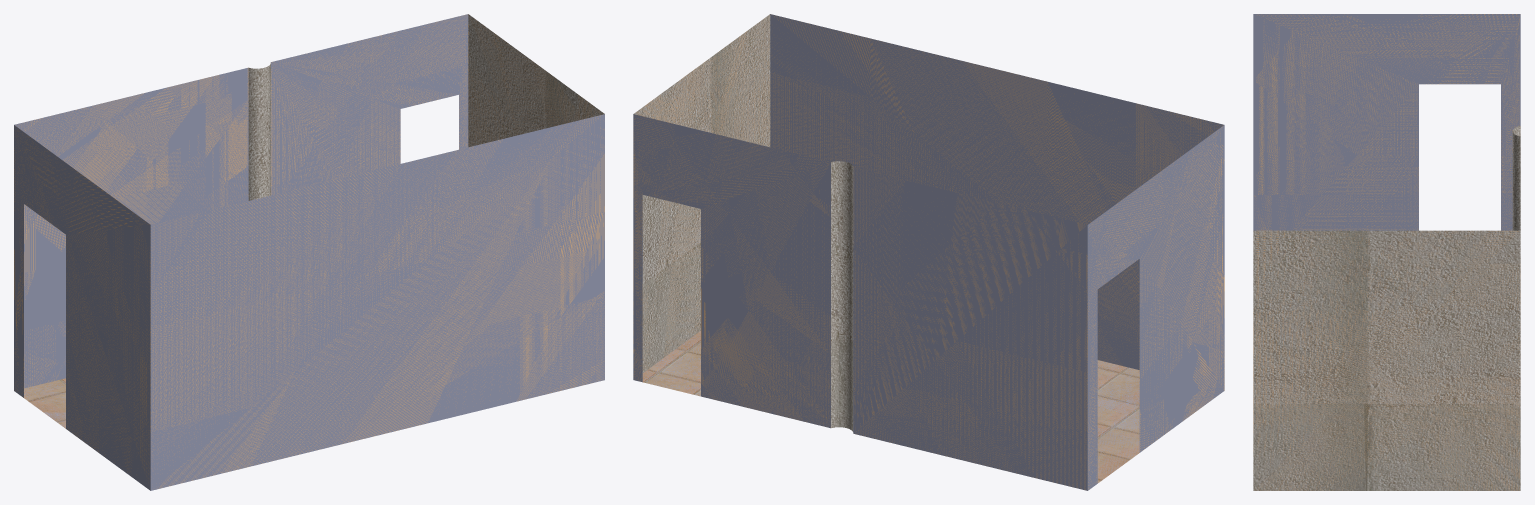
The model's file is COM014.obj.
3 views of the same model, side by side, from view 1: azimuth 30°, elevation 25°; view 2: azimuth 150°, elevation 25°; view 3: azimuth 270°, elevation 25° (orthographic). The views are drawn at different scales.
Parts seen in each view (by area): view 1: Mesh1 COM014 Model; view 2: Mesh1 COM014 Model; view 3: Mesh1 COM014 Model.
Boxes of the visible parts, <box> form: Mesh1 COM014 Model: <box>14,14,604,490</box>; Mesh1 COM014 Model: <box>633,14,1224,490</box>; Mesh1 COM014 Model: <box>1253,14,1520,490</box>.
Bounding box in the file's own units: 6.43 × 3.6 × 3.35.
4 materials, 2 textured.
